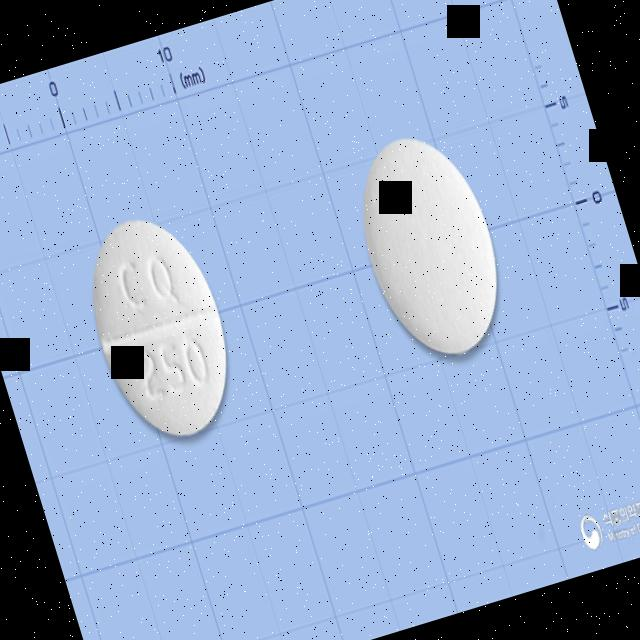Cq Robey: (69, 202, 250, 452)
